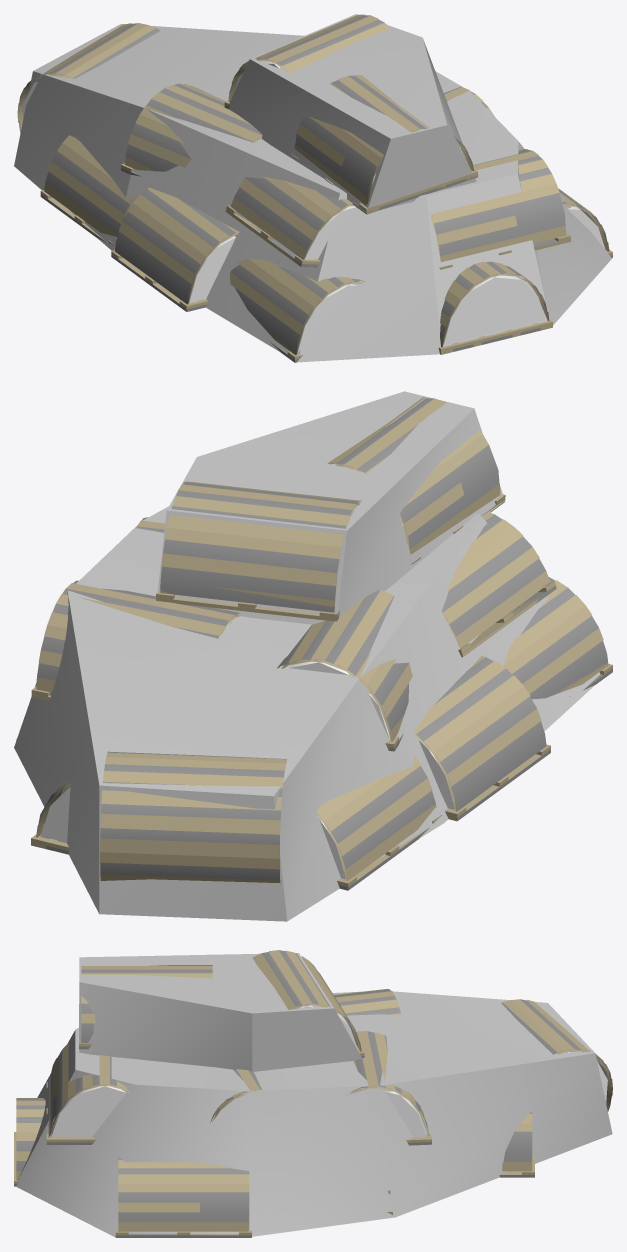
File: eca_fv_lobstertrap_stack_a.DAE
The picture shows the model from 3 angles, top to bottom: view 1: azimuth 30°, elevation 25°; view 2: azimuth 150°, elevation 25°; view 3: azimuth 270°, elevation 25°; orthographic projection. The views are drawn at different scales.
Parts seen in each view (by area): view 1: Colmesh-1, eca_fv_lobstertrap_stack_a150, eca_fv_lobstertrap_stack_a20; view 2: Colmesh-1, eca_fv_lobstertrap_stack_a150, eca_fv_lobstertrap_stack_a20; view 3: Colmesh-1, eca_fv_lobstertrap_stack_a150, eca_fv_lobstertrap_stack_a20.
Boxes of the visible parts, x1,y1,x2,y2 form: Colmesh-1: (14,14,611,362); eca_fv_lobstertrap_stack_a150: (17,14,612,359); eca_fv_lobstertrap_stack_a20: (17,15,612,362); Colmesh-1: (14,391,600,921); eca_fv_lobstertrap_stack_a150: (16,397,612,886); eca_fv_lobstertrap_stack_a20: (36,398,612,890); Colmesh-1: (16,953,612,1237); eca_fv_lobstertrap_stack_a150: (14,950,612,1235); eca_fv_lobstertrap_stack_a20: (14,950,612,1237).
Bounding box in the file's own units: 2.01 × 3.08 × 0.998.
